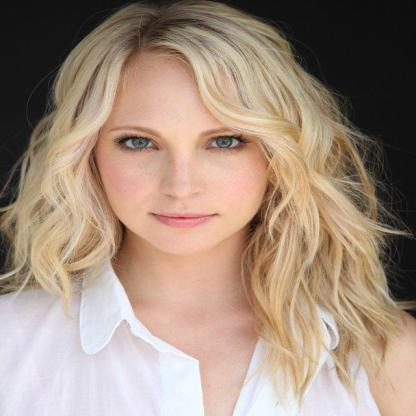long-hair: (1, 252, 398, 306)
